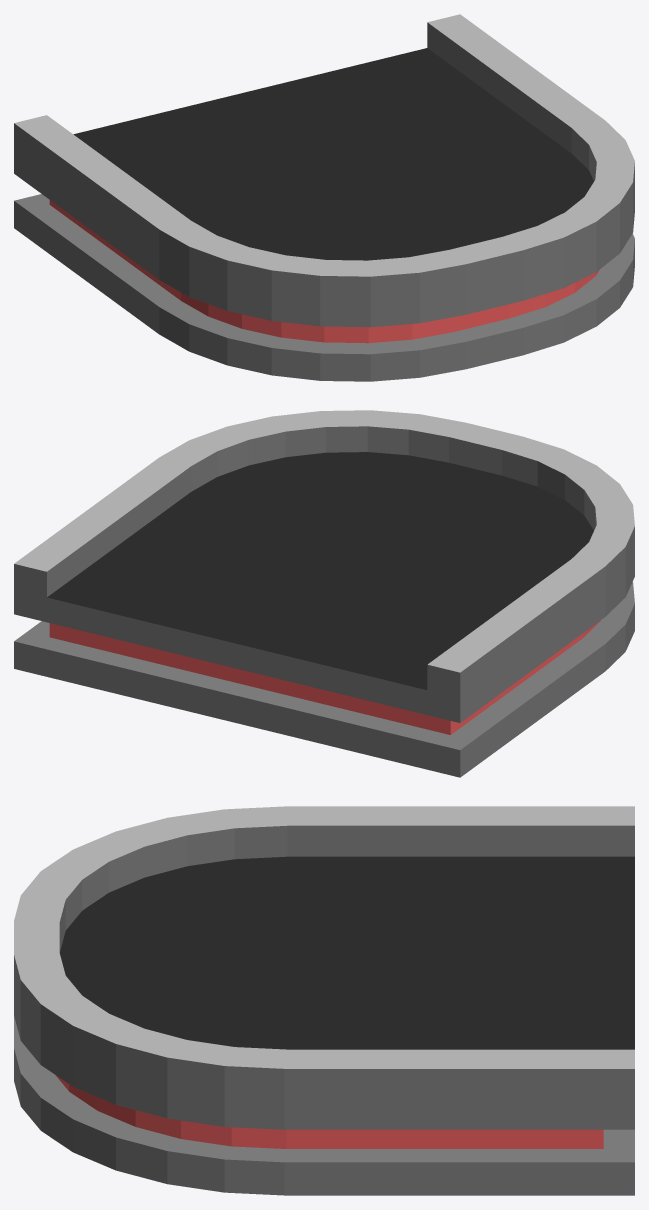
The model's file is ModGasRoofSide.fbx.
3 renders of one model, top to bottom at view 1: azimuth 30°, elevation 25°; view 2: azimuth 150°, elevation 25°; view 3: azimuth 270°, elevation 25°, orthographic. The views are drawn at different scales.
Visible parts, largest first — view 1: ModGasRoofSide; view 2: ModGasRoofSide; view 3: ModGasRoofSide.
Part boxes in pixels (x1,y1,x2,y2): ModGasRoofSide: (14,14,634,381); ModGasRoofSide: (14,410,634,777); ModGasRoofSide: (14,806,634,1195).
Bounding box in the file's own units: 400 × 90 × 400.
